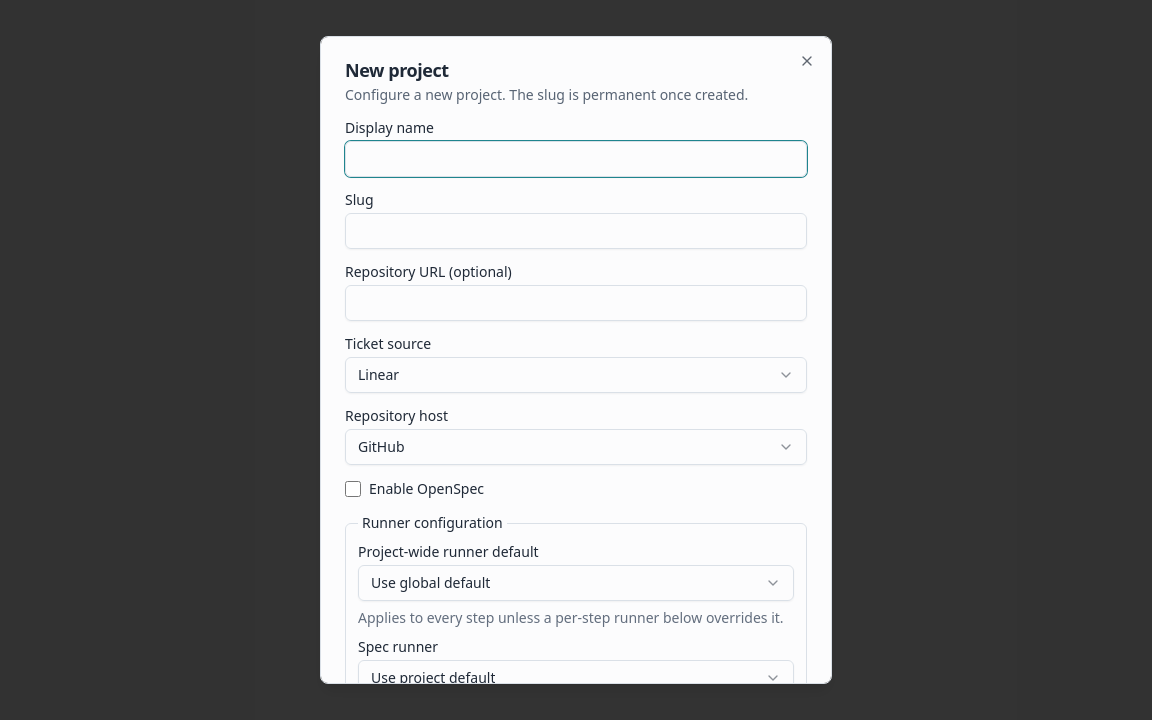
Test: ProjectForm — create › AC3 — PROJECT_SLUG_CONFLICT surfaces on the slug field
Type "Acme" into the field with test id "project-name-input" at (576, 159), box [345,141,807,177]
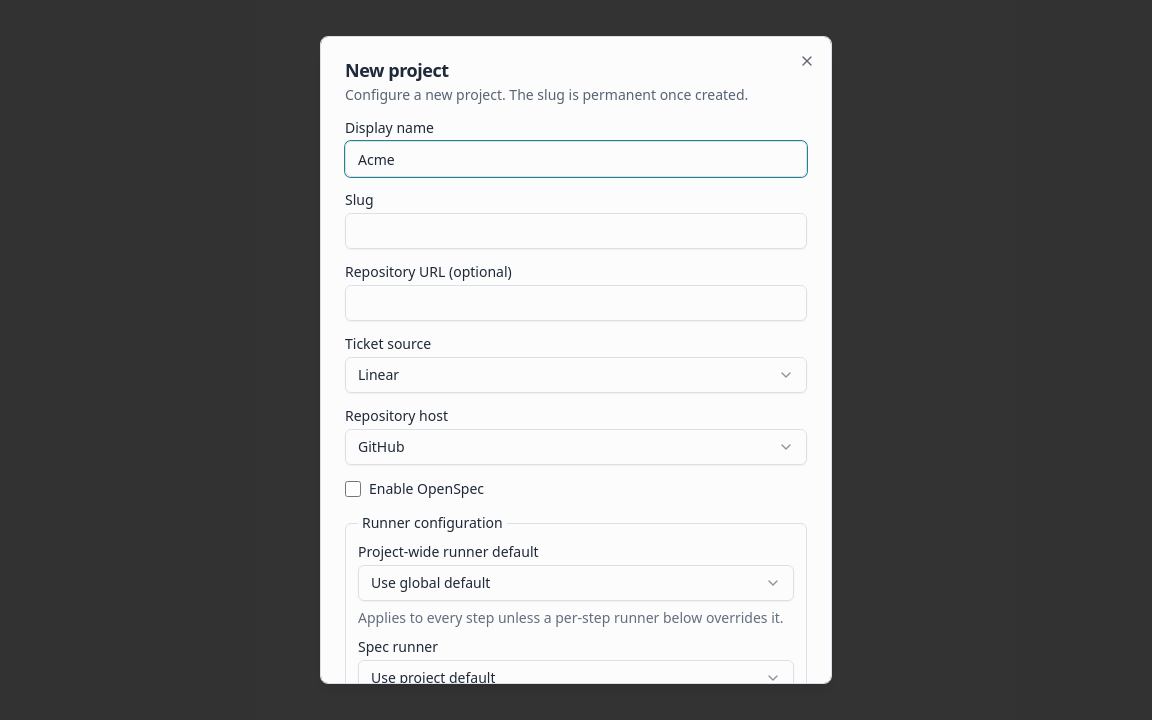
Type "default" into the field with test id "project-slug-input" at (576, 231), box [345,213,807,249]
(page scrolled)
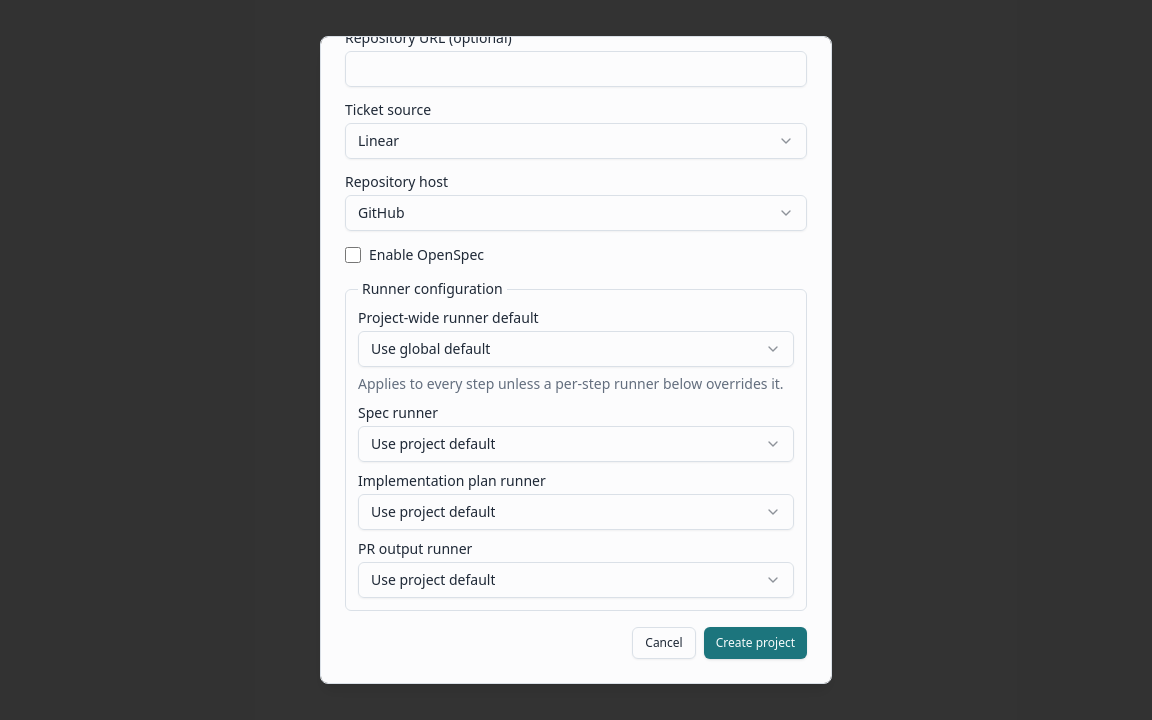
Click the button with test id "project-form-submit" at (755, 643), box [704,627,807,659]
(page scrolled)
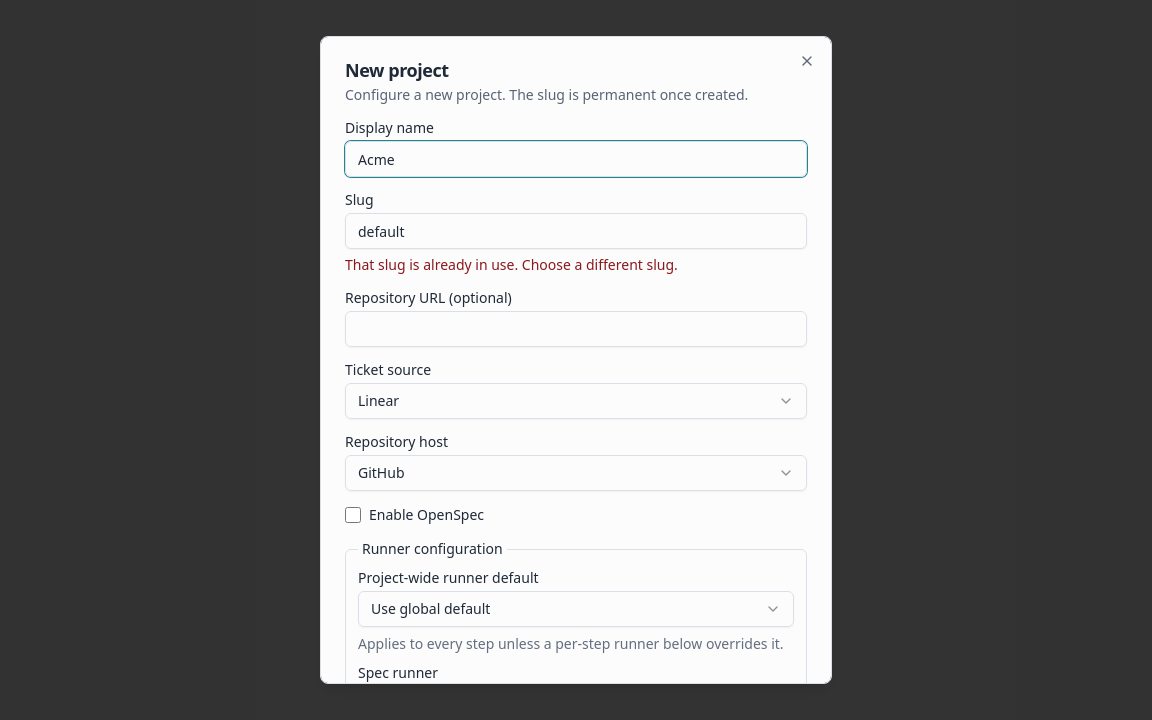
Check: the text "That slug is already in use. Choose a different slug." is shown, box [345,255,678,274]
